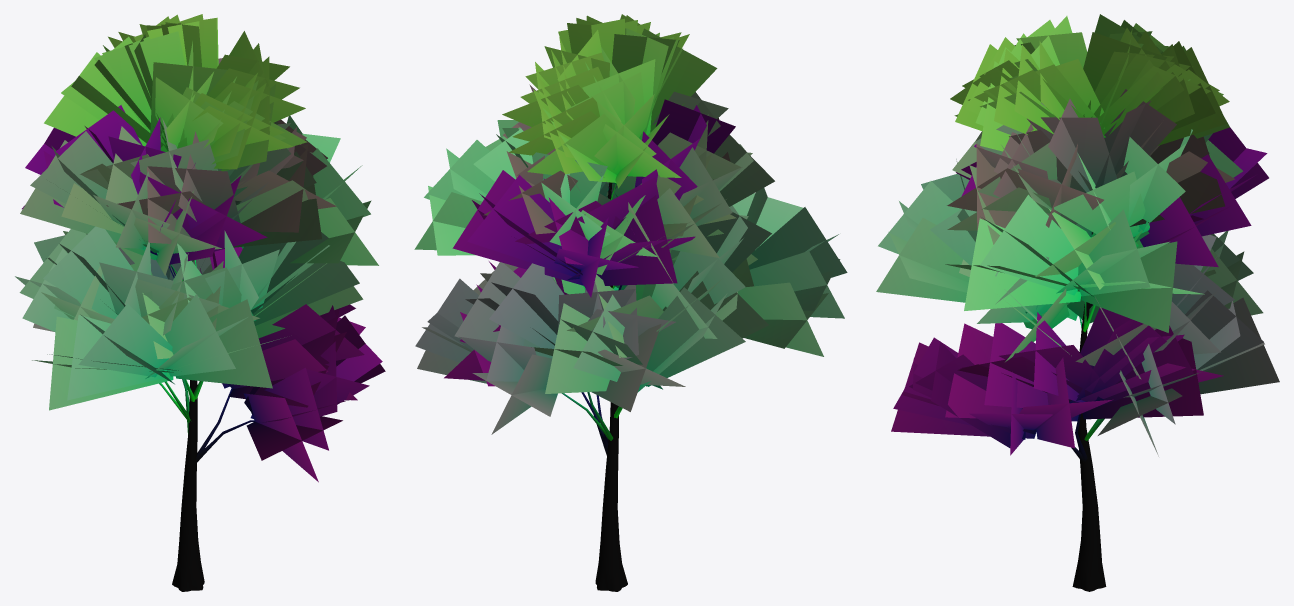
The model's file is Tree_8_5.fbx.
3 renders of one model, left to right at view 1: azimuth 30°, elevation 25°; view 2: azimuth 150°, elevation 25°; view 3: azimuth 270°, elevation 25°, orthographic.
Parts seen in each view (by area): view 1: _8; view 2: _8; view 3: _8.
Part boxes in pixels (x1,y1,x2,y2): _8: (15,14,385,591); _8: (414,14,847,591); _8: (876,14,1279,591).
Bounding box in the file's own units: 957 × 1502 × 986.
